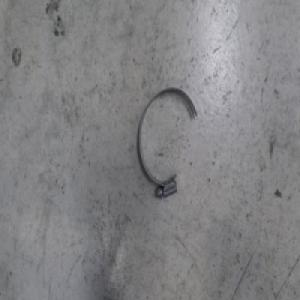AdjustableClamp: (138, 85, 199, 200)
